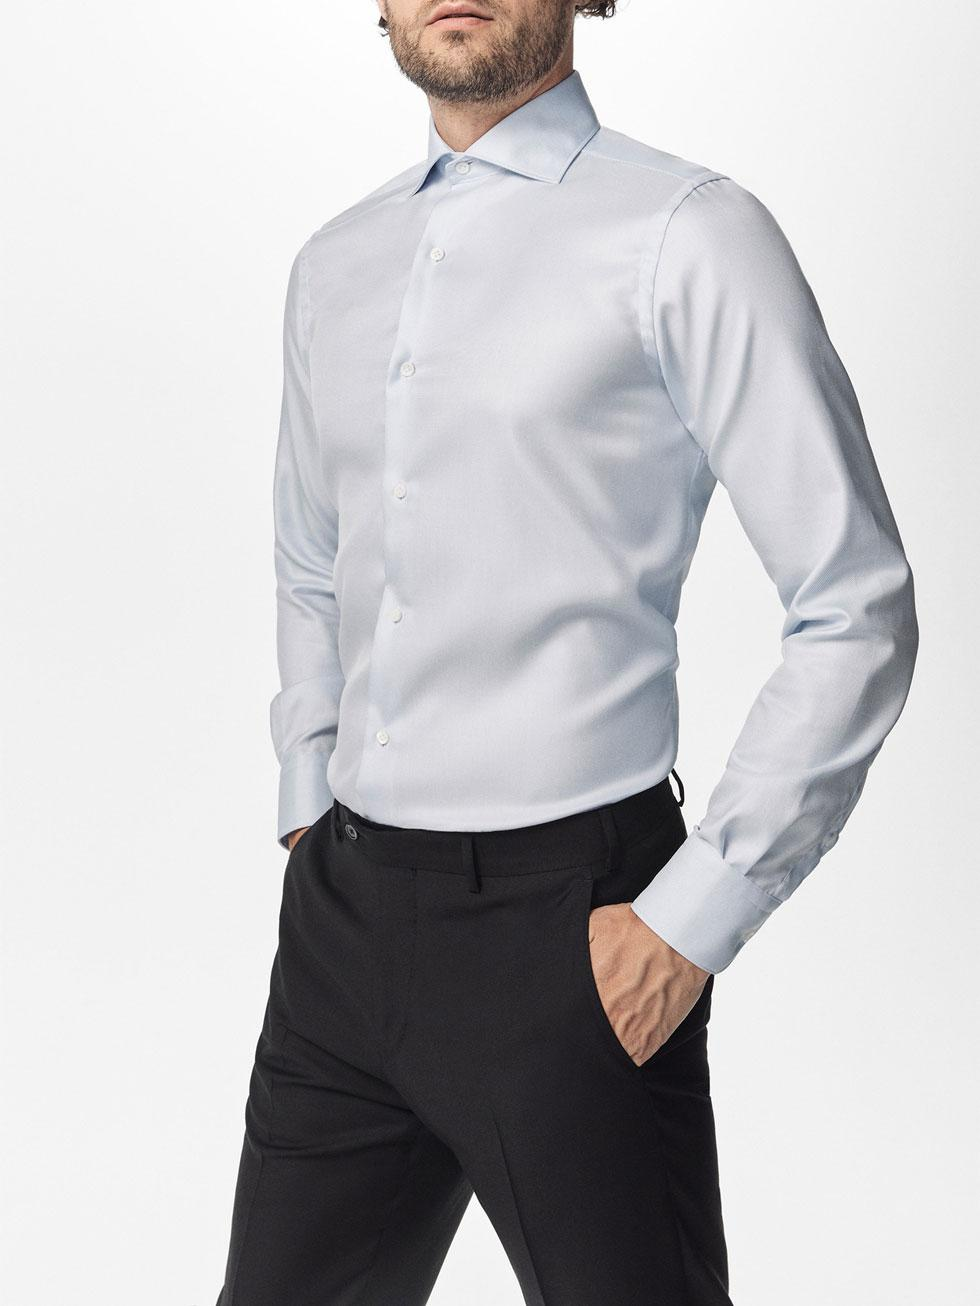teeshirt: (247, 77, 935, 969)
